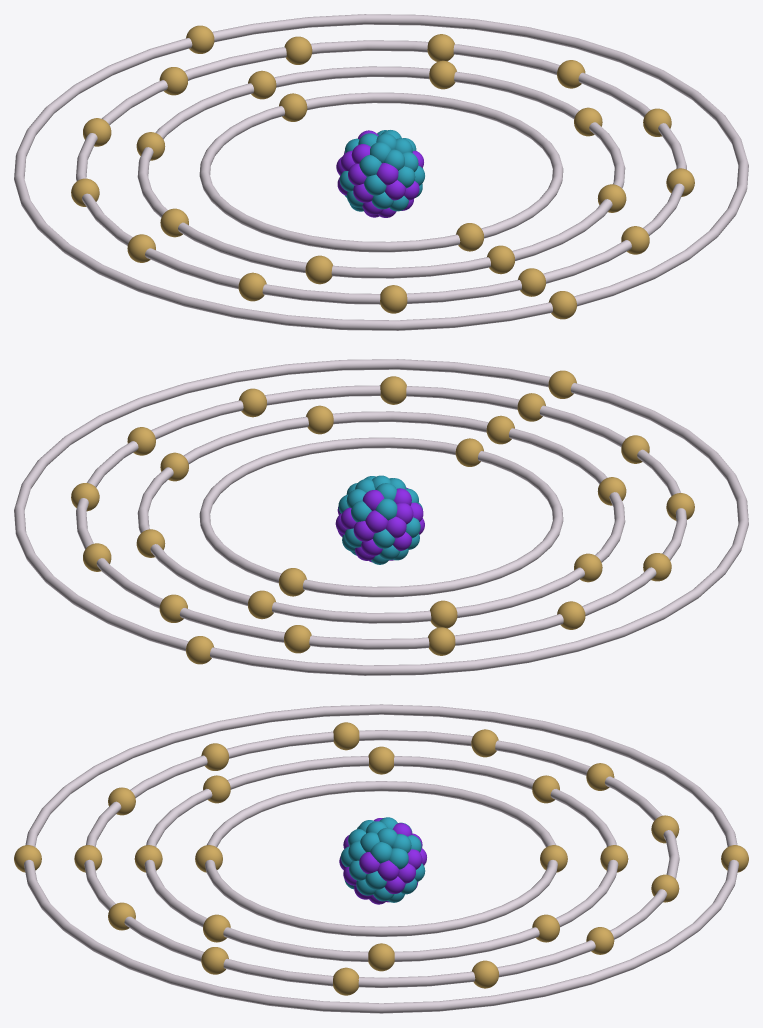
File: manganes.glb
3 renders of one model, top to bottom at view 1: azimuth 30°, elevation 25°; view 2: azimuth 150°, elevation 25°; view 3: azimuth 270°, elevation 25°, orthographic. The views are drawn at different scales.
Visible parts, largest first — view 1: Orbita_4, Orbita_3, Orbita_2, Orbita_1, Nucleo_Completo, Eletron_C3_13, Eletron_C2_8, Eletron_C3_7, Eletron_C2_4, Eletron_C3_12, Eletron_C3_6, Eletron_C2_1 (+18 smaller); view 2: Orbita_4, Orbita_3, Orbita_2, Orbita_1, Nucleo_Completo, Eletron_C3_2, Eletron_C3_9, Eletron_C3_8, Eletron_C2_2, Eletron_C2_6, Eletron_C2_5, Eletron_2 (+18 smaller); view 3: Orbita_4, Orbita_3, Orbita_2, Orbita_1, Nucleo_Completo, Eletron_C2_3, Eletron_C3_11, Eletron_C3_4, Eletron_C2_7, Eletron_C3_10, Eletron_C3_5, Eletron_C3_3 (+18 smaller).
Boxes of the visible parts, x1,y1,x2,y2 form: Orbita_4: [14, 14, 748, 330]; Orbita_3: [76, 40, 686, 304]; Orbita_2: [137, 66, 625, 278]; Orbita_1: [199, 92, 563, 252]; Nucleo_Completo: [336, 130, 424, 217]; Eletron_C3_13: [380, 285, 407, 313]; Eletron_C2_8: [305, 255, 332, 284]; Eletron_C3_7: [284, 36, 312, 64]; Eletron_C2_4: [429, 60, 456, 89]; Eletron_C3_12: [238, 272, 266, 301]; Eletron_C3_6: [427, 34, 454, 61]; Eletron_C2_1: [487, 245, 514, 274]; Orbita_4: [14, 359, 748, 675]; Orbita_3: [76, 385, 686, 649]; Orbita_2: [137, 411, 625, 623]; Orbita_1: [199, 437, 563, 597]; Nucleo_Completo: [335, 475, 424, 564]; Eletron_C3_2: [380, 376, 406, 404]; Eletron_C3_9: [428, 627, 455, 655]; Eletron_C3_8: [284, 625, 311, 653]; Eletron_C2_2: [306, 405, 333, 434]; Eletron_C2_6: [430, 600, 457, 628]; Eletron_C2_5: [248, 590, 275, 619]; Eletron_2: [278, 568, 306, 596]; Orbita_4: [24, 704, 738, 1013]; Orbita_3: [84, 730, 679, 987]; Orbita_2: [144, 756, 618, 961]; Orbita_1: [205, 781, 557, 936]; Nucleo_Completo: [339, 817, 426, 904]; Eletron_C2_3: [368, 943, 394, 971]; Eletron_C3_11: [333, 722, 359, 750]; Eletron_C3_4: [333, 967, 358, 995]; Eletron_C2_7: [368, 746, 394, 774]; Eletron_C3_10: [471, 729, 498, 757]; Eletron_C3_5: [471, 960, 498, 988]; Eletron_C3_3: [201, 947, 228, 974].
Bounding box in the file's own units: 4.16 × 0.5051 × 4.26.
